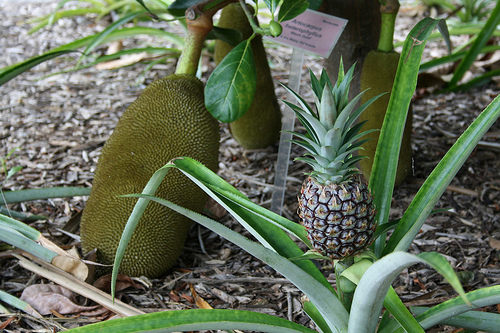jackfruit: (77, 72, 222, 279), (346, 0, 414, 191), (210, 1, 284, 155)
